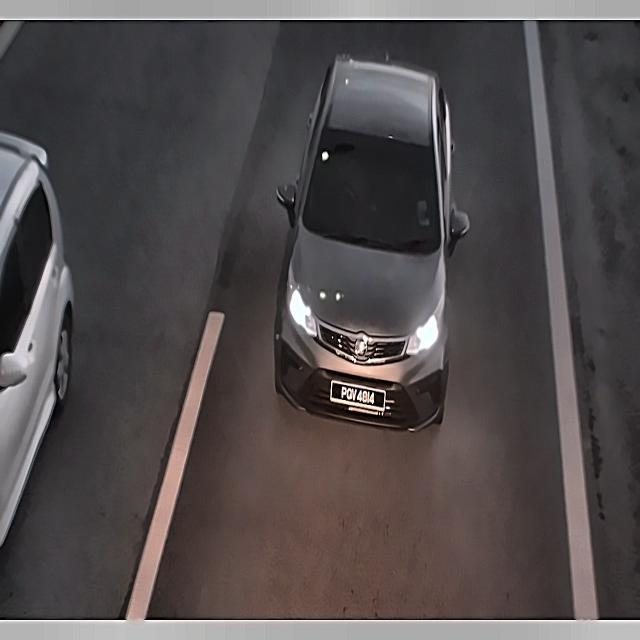car: (326, 372, 394, 421)
